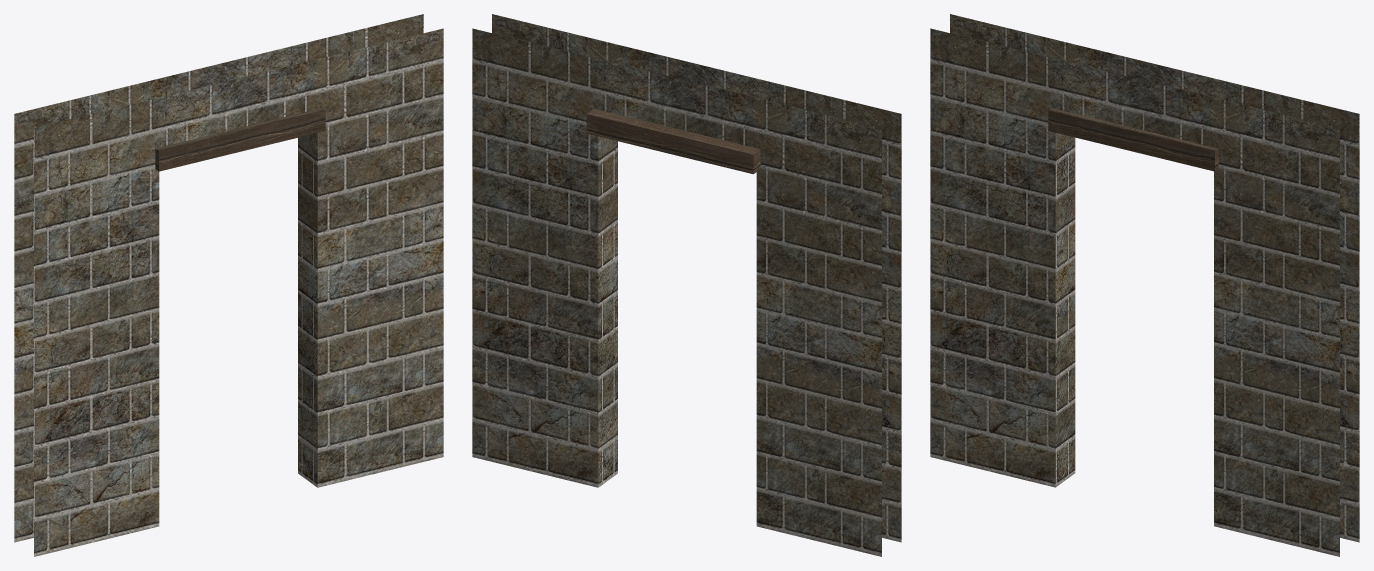
File: ARC1010201.fbx
3 views of the same model, side by side, from view 1: azimuth 30°, elevation 25°; view 2: azimuth 150°, elevation 25°; view 3: azimuth 330°, elevation 25° (orthographic).
Visible parts, largest first — view 1: smARC1010201; view 2: smARC1010201; view 3: smARC1010201.
Part boxes in pixels (x1,y1,x2,y2): smARC1010201: (14, 14, 443, 556); smARC1010201: (472, 14, 901, 556); smARC1010201: (930, 14, 1359, 556).
Size of the model in its own units: 268 by 268 by 34.27.
1 material, 1 textured.
